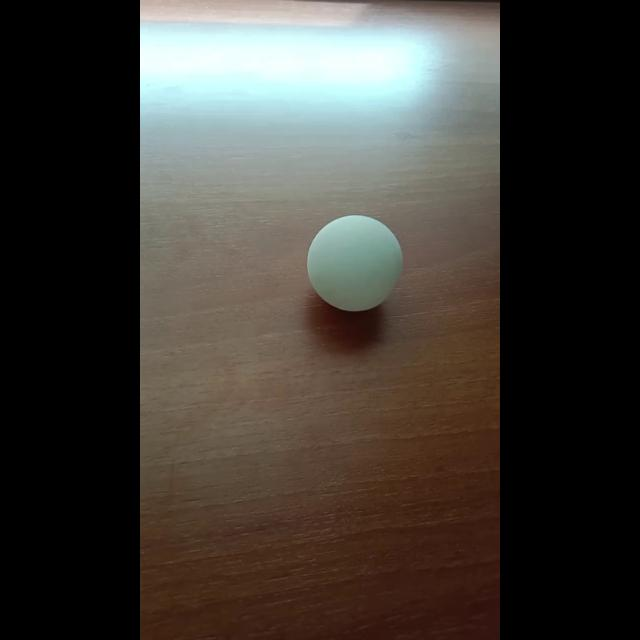white ball: (306, 214, 402, 312)
